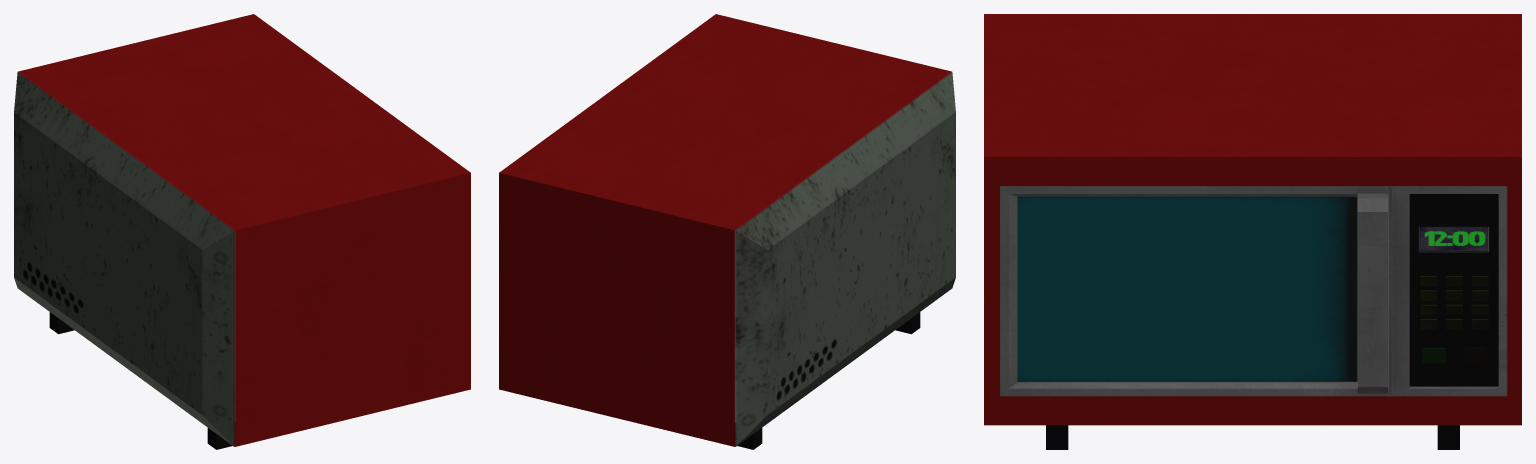
The model's file is azvnr2.glb.
3 views of the same model, side by side, from view 1: azimuth 30°, elevation 25°; view 2: azimuth 150°, elevation 25°; view 3: azimuth 270°, elevation 25° (orthographic). The views are drawn at different scales.
Visible parts, largest first — view 1: MainBODY_2, LEGS_3; view 2: MainBODY_2, LEGS_3; view 3: FRONTFACE_0, MainBODY_2, PAD_7, HANDLE_1, NUMBUTTONS_5, TIMER_6, LEGS_3, POWERBUTTONS_4.
Boxes of the visible parts, <box> form: MainBODY_2: <box>14,14,470,446</box>; LEGS_3: <box>49,312,232,449</box>; MainBODY_2: <box>499,14,955,446</box>; LEGS_3: <box>737,312,920,449</box>; FRONTFACE_0: <box>984,157,1521,425</box>; MainBODY_2: <box>984,14,1521,156</box>; PAD_7: <box>1409,194,1498,386</box>; HANDLE_1: <box>1357,193,1387,393</box>; NUMBUTTONS_5: <box>1420,276,1488,329</box>; TIMER_6: <box>1420,227,1488,251</box>; LEGS_3: <box>1046,425,1459,449</box>; POWERBUTTONS_4: <box>1422,347,1485,363</box>.
Size of the model in its own units: 1.68 by 1.43 by 2.35.
1 material, 1 textured.
